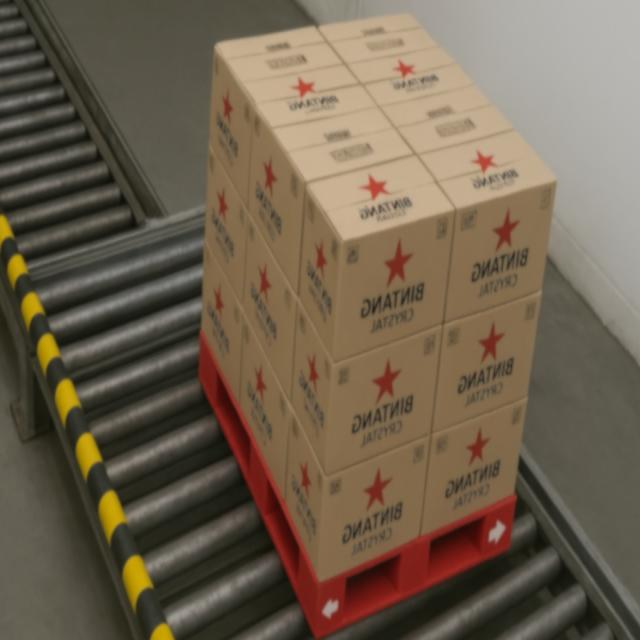pallet: (196, 7, 564, 640)
